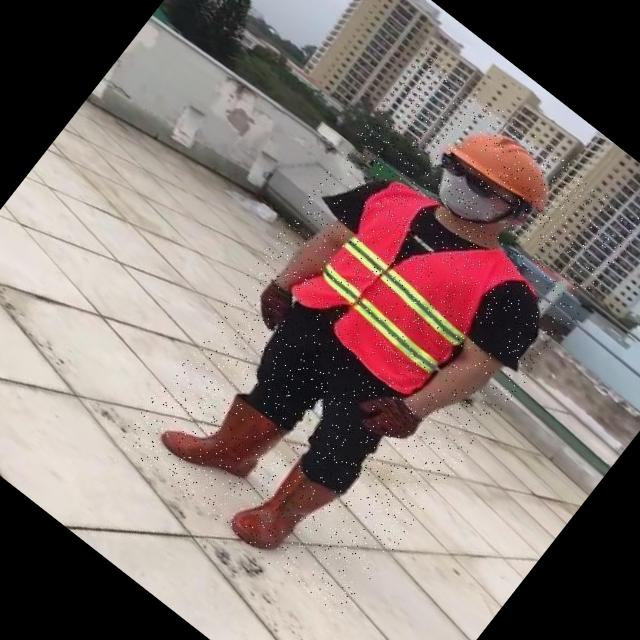hard_hat: (438, 104, 569, 222)
safety_vest: (282, 166, 529, 412)
vehicle: (114, 48, 640, 619)
work_boots: (158, 374, 287, 502), (225, 450, 344, 573)
